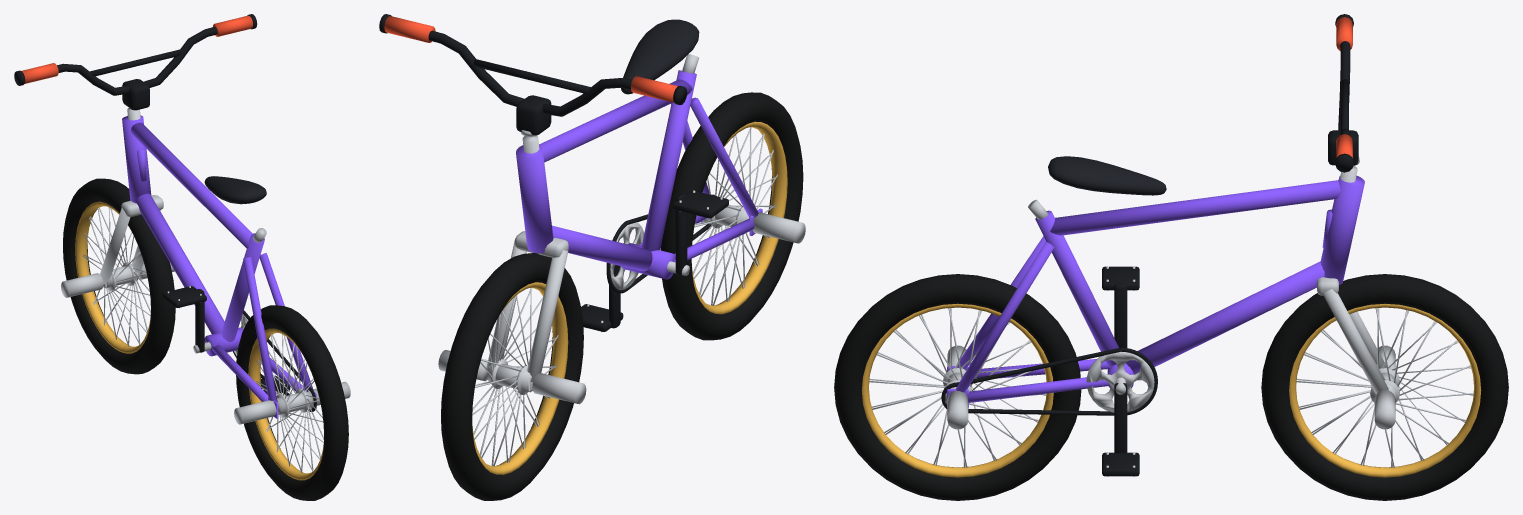
The model's file is bmx.glb.
The picture shows the model from 3 angles, left to right: view 1: azimuth 30°, elevation 25°; view 2: azimuth 150°, elevation 25°; view 3: azimuth 270°, elevation 25°; orthographic projection. The views are drawn at different scales.
Parts seen in each view (by area): view 1: bmx_frame, bmx_wheelR, bmx_wheelF, bmx_front, bmx_crank; view 2: bmx_frame, bmx_wheelF, bmx_wheelR, bmx_front, bmx_crank; view 3: bmx_frame, bmx_wheelF, bmx_wheelR, bmx_front, bmx_crank.
Boxes of the visible parts, left/top/right/bottom form: bmx_frame: left=122, top=115, right=350, bottom=424; bmx_wheelR: left=236, top=305, right=348, bottom=500; bmx_wheelF: left=63, top=178, right=175, bottom=374; bmx_front: left=14, top=14, right=257, bottom=297; bmx_crank: left=162, top=286, right=290, bottom=394; bmx_frame: left=516, top=19, right=805, bottom=293; bmx_wheelF: left=441, top=253, right=583, bottom=500; bmx_wheelR: left=660, top=92, right=803, bottom=340; bmx_front: left=379, top=14, right=687, bottom=404; bmx_crank: left=581, top=190, right=728, bottom=332; bmx_frame: left=941, top=156, right=1364, bottom=429; bmx_wheelF: left=1261, top=274, right=1508, bottom=500; bmx_wheelR: left=834, top=274, right=1081, bottom=500; bmx_front: left=1317, top=14, right=1395, bottom=429; bmx_crank: left=1102, top=266, right=1139, bottom=476.
Bounding box in the file's own units: 0.762 × 1.04 × 1.53.
